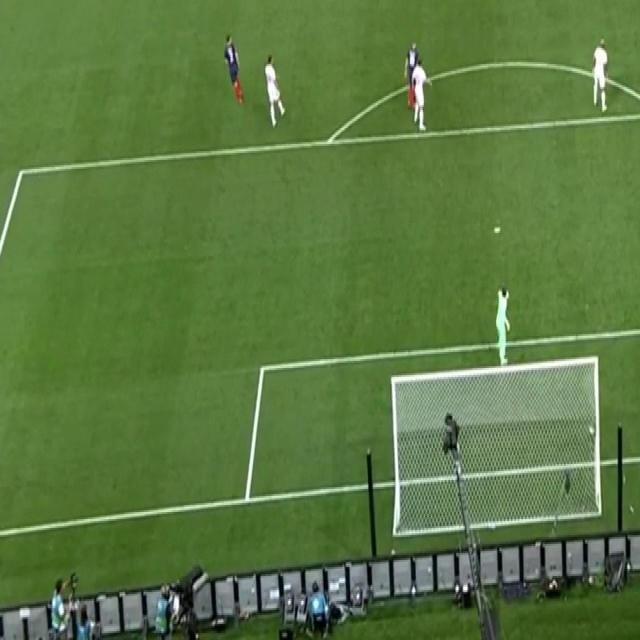player-white: (264, 50, 288, 128), (494, 285, 516, 369), (222, 32, 246, 108), (411, 58, 434, 134), (402, 38, 424, 108), (590, 38, 608, 112)
